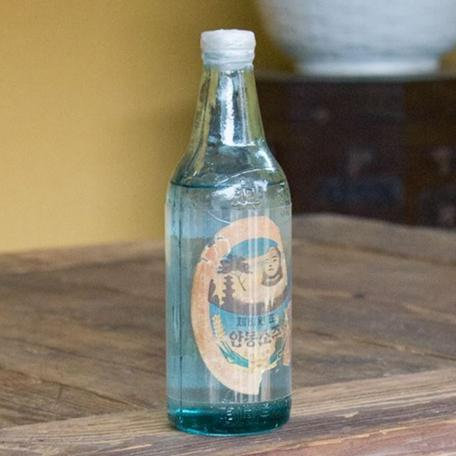soju: (157, 28, 304, 436)
